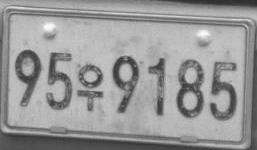1: (145, 56, 174, 116)
5: (208, 61, 237, 121), (44, 51, 73, 110)
8: (175, 58, 205, 119)
9: (13, 48, 41, 107), (111, 54, 139, 113)
우: (76, 63, 105, 111)
